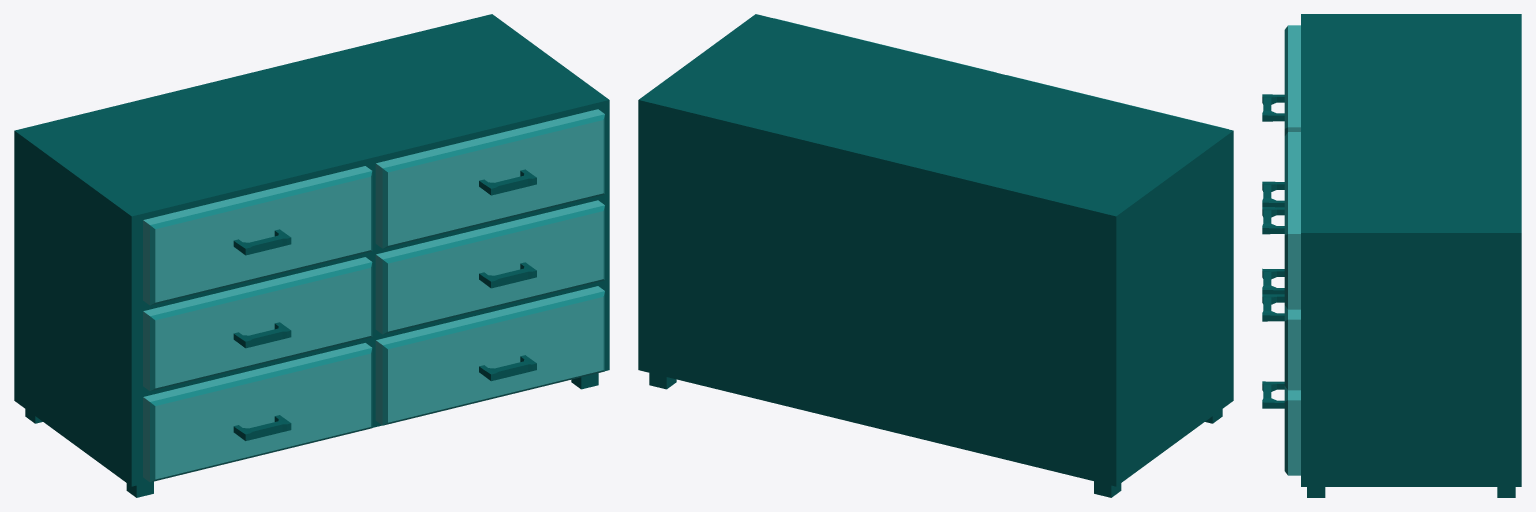
Rendered from Prop_Cabinet_04.fbx.
3 views of the same model, side by side, from view 1: azimuth 30°, elevation 25°; view 2: azimuth 150°, elevation 25°; view 3: azimuth 270°, elevation 25° (orthographic). The views are drawn at different scales.
Parts seen in each view (by area): view 1: Prop_Cabinet_04; view 2: Prop_Cabinet_04; view 3: Prop_Cabinet_04.
Part boxes in pixels (x1,y1,x2,y2): Prop_Cabinet_04: (14, 14, 609, 497); Prop_Cabinet_04: (638, 14, 1233, 497); Prop_Cabinet_04: (1262, 14, 1521, 497).
Size of the model in its own units: 140 by 80 by 70.
